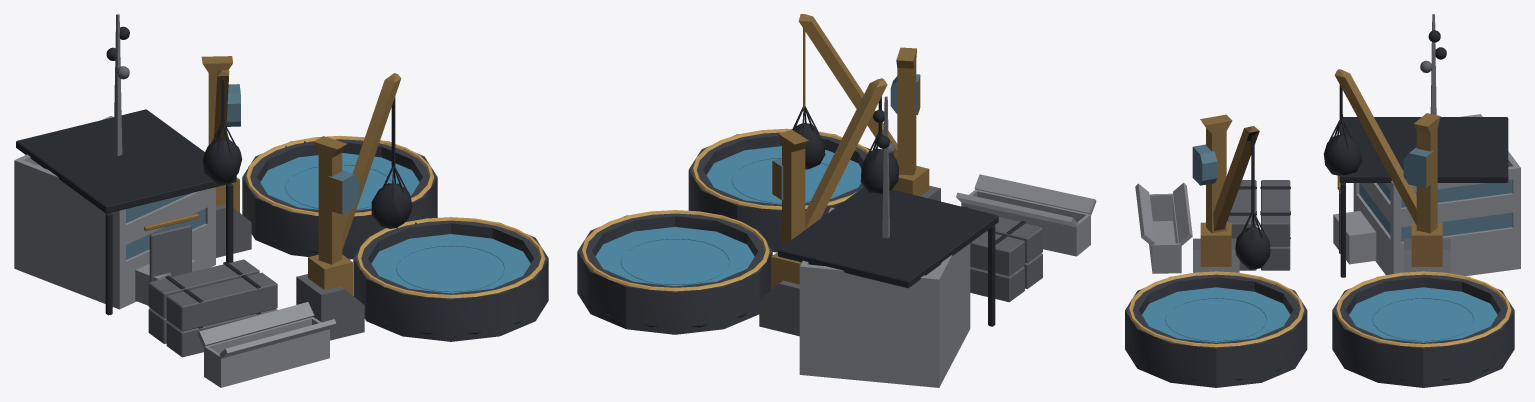
The model's file is fishing-style-compact.glb.
3 renders of one model, left to right at view 1: azimuth 30°, elevation 25°; view 2: azimuth 150°, elevation 25°; view 3: azimuth 270°, elevation 25°, orthographic. The views are drawn at different scales.
Parts seen in each view (by area): view 1: Cylinder.001, Cube.007, Control hut iron roof cap, Cylinder, Cube.010, Cube.011, Stacked supply case.002, Cube.003, Cube.005, Stacked supply case.003, Control hut door recess, Basin 2 / brass rim (+7 smaller); view 2: Cylinder, Cube.007, Control hut iron roof cap, Cylinder.001, Cube.003, Cube.010, Cube.011, Cube.001, Basin 1 / brass rim, Stacked supply case.003, Stacked supply case.001, Basin 2 / brass rim (+5 smaller); view 3: Cylinder, Cylinder.001, Cube.007, Control hut iron roof cap, Cube.003, Cube.010, Cube.011, Cube.001, Cube.005, Stacked supply case.003, Basin 2 / brass rim, Basin 1 / brass rim (+6 smaller).
Part boxes in pixels (bbox=[...]): Cylinder.001: bbox=[353, 220, 548, 341]; Cube.007: bbox=[14, 116, 215, 309]; Control hut iron roof cap: bbox=[16, 109, 236, 213]; Cylinder: bbox=[242, 139, 437, 259]; Cube.010: bbox=[313, 73, 412, 264]; Cube.011: bbox=[197, 302, 336, 387]; Stacked supply case.002: bbox=[166, 272, 277, 331]; Cube.003: bbox=[201, 56, 242, 184]; Cube.005: bbox=[296, 254, 364, 340]; Stacked supply case.003: bbox=[148, 259, 259, 318]; Control hut door recess: bbox=[149, 224, 191, 282]; Basin 2 / brass rim: bbox=[356, 217, 545, 298]; Cylinder: bbox=[577, 213, 772, 334]; Cube.007: bbox=[799, 207, 970, 387]; Control hut iron roof cap: bbox=[778, 187, 998, 288]; Cylinder.001: bbox=[688, 132, 871, 252]; Cube.003: bbox=[772, 78, 898, 246]; Cube.010: bbox=[792, 14, 920, 175]; Cube.011: bbox=[956, 174, 1096, 256]; Cube.001: bbox=[759, 252, 801, 336]; Basin 1 / brass rim: bbox=[581, 210, 769, 291]; Stacked supply case.003: bbox=[970, 231, 1024, 276]; Stacked supply case.001: bbox=[970, 266, 1024, 302]; Basin 2 / brass rim: bbox=[692, 128, 869, 209]; Cylinder: bbox=[1332, 274, 1514, 387]; Cylinder.001: bbox=[1125, 274, 1307, 387]; Cube.007: bbox=[1333, 114, 1520, 275]; Control hut iron roof cap: bbox=[1339, 117, 1508, 182]; Cube.003: bbox=[1323, 69, 1440, 233]; Cube.010: bbox=[1192, 114, 1270, 269]; Cube.011: bbox=[1135, 182, 1192, 273]; Cube.001: bbox=[1404, 222, 1450, 273]; Cube.005: bbox=[1193, 222, 1239, 272]; Stacked supply case.003: bbox=[1261, 180, 1290, 246]; Basin 2 / brass rim: bbox=[1128, 271, 1304, 347]; Basin 1 / brass rim: bbox=[1335, 271, 1511, 347].
Bounding box in the file's own units: 0.6301 × 0.402 × 0.61.
